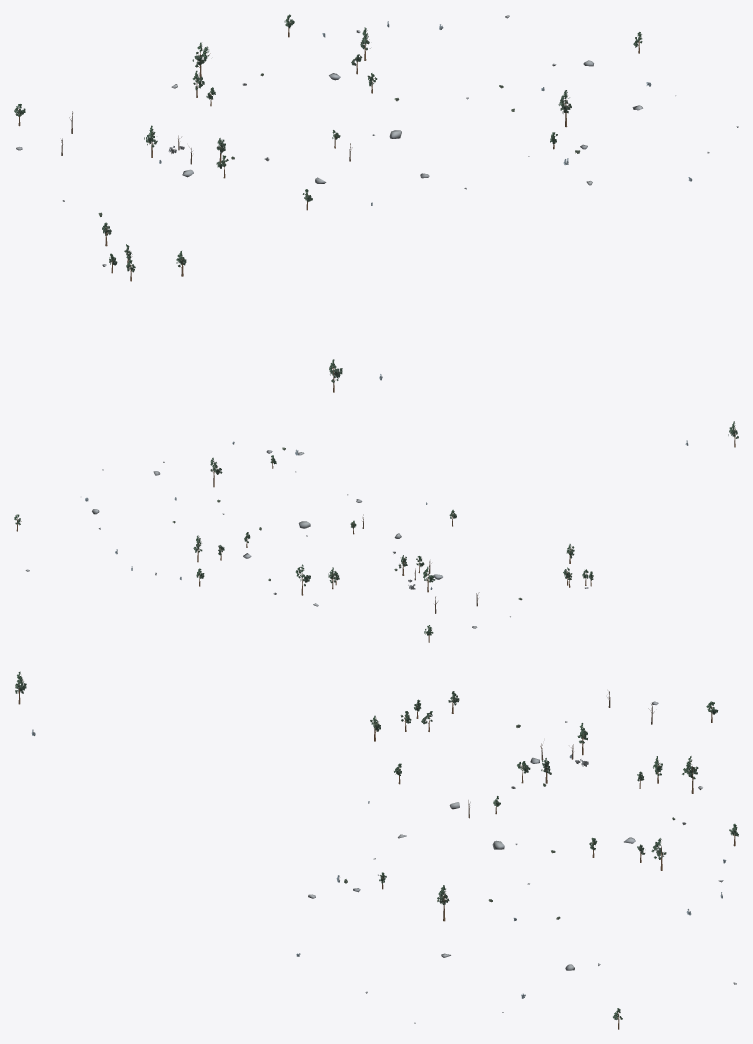
The model's file is frost_land_scatter_c21_10.glb.
The picture shows the model from 3 angles, top to bottom: view 1: azimuth 30°, elevation 25°; view 2: azimuth 150°, elevation 25°; view 3: azimuth 270°, elevation 25°; orthographic projection. The views are drawn at different scales.
Visible parts, largest first — view 1: frost_land_scatter_c21_10; view 2: frost_land_scatter_c21_10; view 3: frost_land_scatter_c21_10.
Boxes of the visible parts, bbox=[...] form: frost_land_scatter_c21_10: bbox=[14, 14, 738, 392]; frost_land_scatter_c21_10: bbox=[14, 421, 738, 642]; frost_land_scatter_c21_10: bbox=[15, 671, 738, 1029].
Size of the model in its own units: 253 by 31.24 by 254.
